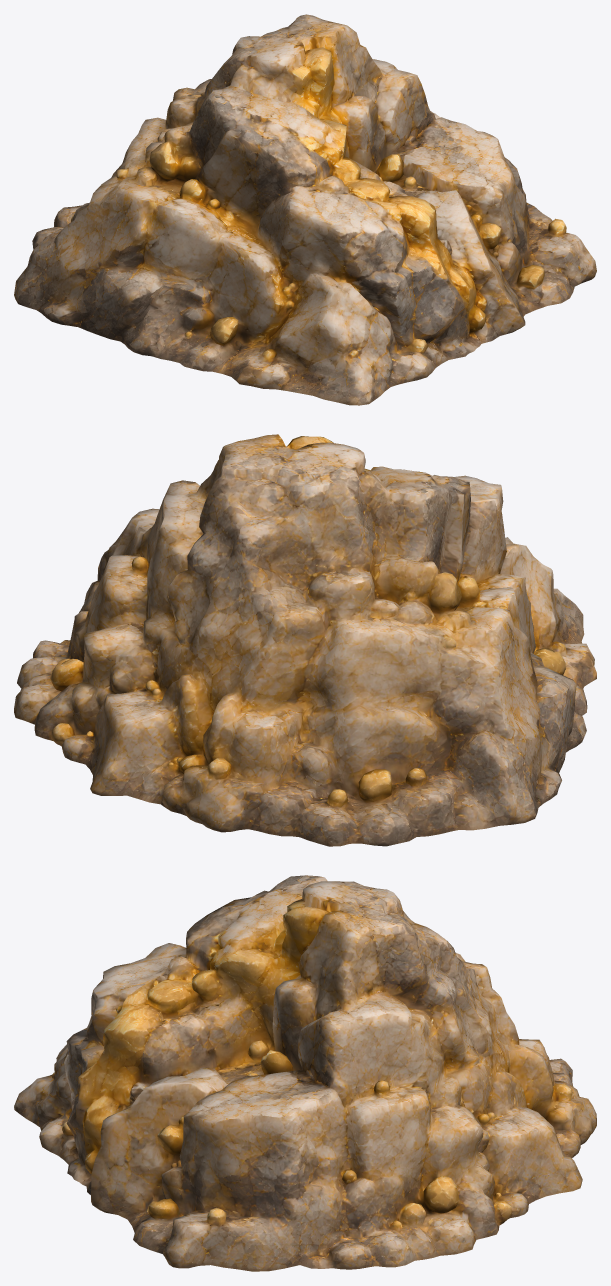
The model's file is GoldOreRock.fbx.
The picture shows the model from 3 angles, top to bottom: view 1: azimuth 30°, elevation 25°; view 2: azimuth 150°, elevation 25°; view 3: azimuth 270°, elevation 25°; orthographic projection. The views are drawn at different scales.
Parts seen in each view (by area): view 1: GoldOreRock; view 2: GoldOreRock; view 3: GoldOreRock.
Boxes of the visible parts, x1=… form: GoldOreRock: x1=14, y1=14, x2=596, y2=405; GoldOreRock: x1=14, y1=434, x2=596, y2=846; GoldOreRock: x1=14, y1=875, x2=596, y2=1271.
Bounding box in the file's own units: 0.9995 × 0.4761 × 0.9995.
